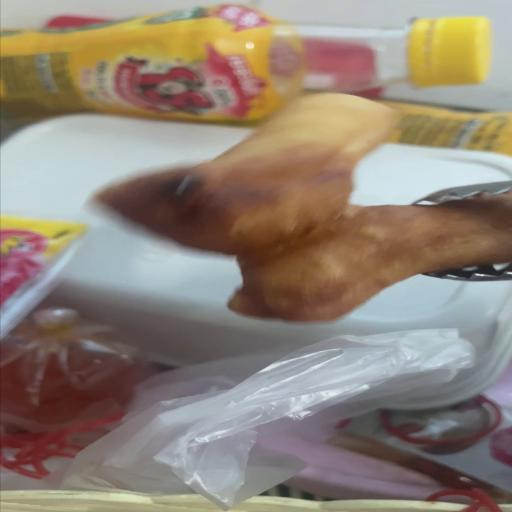street_burnt_good: (94, 92, 510, 320)
